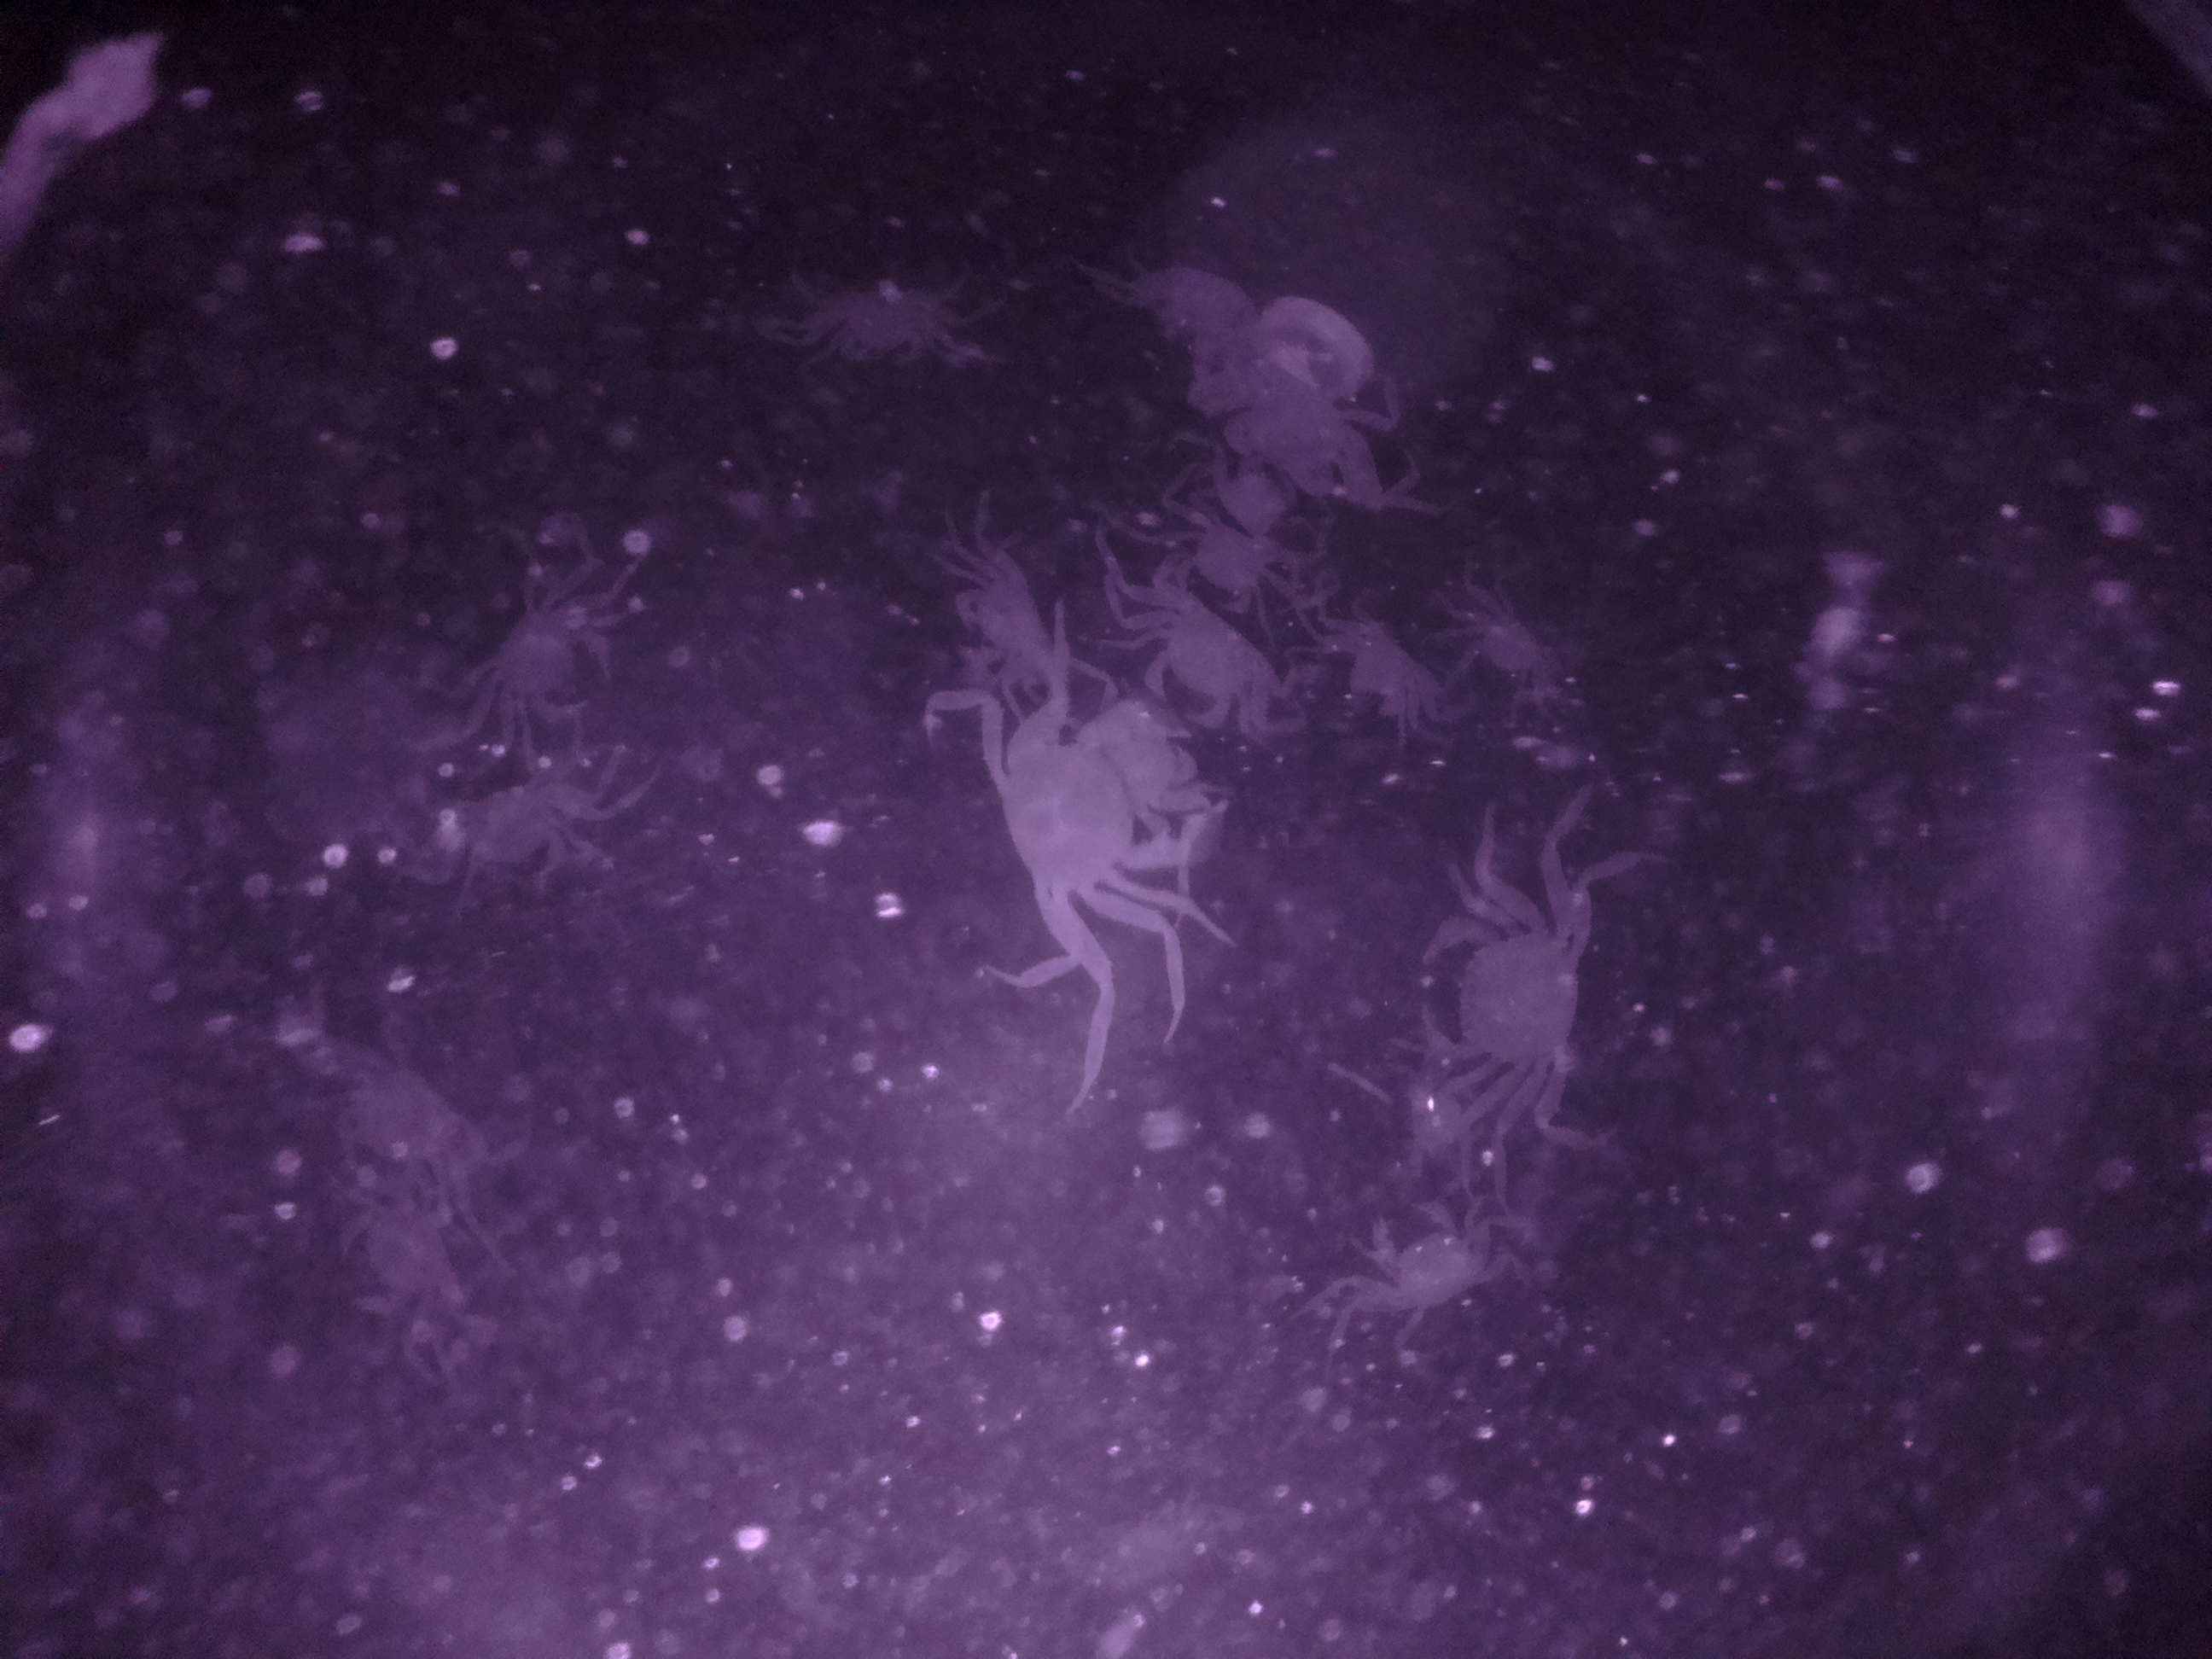Crab: (1402, 882, 1618, 1103), (1118, 570, 1305, 765), (1329, 1178, 1531, 1337), (763, 261, 977, 387), (469, 582, 629, 737), (1446, 580, 1583, 714)
